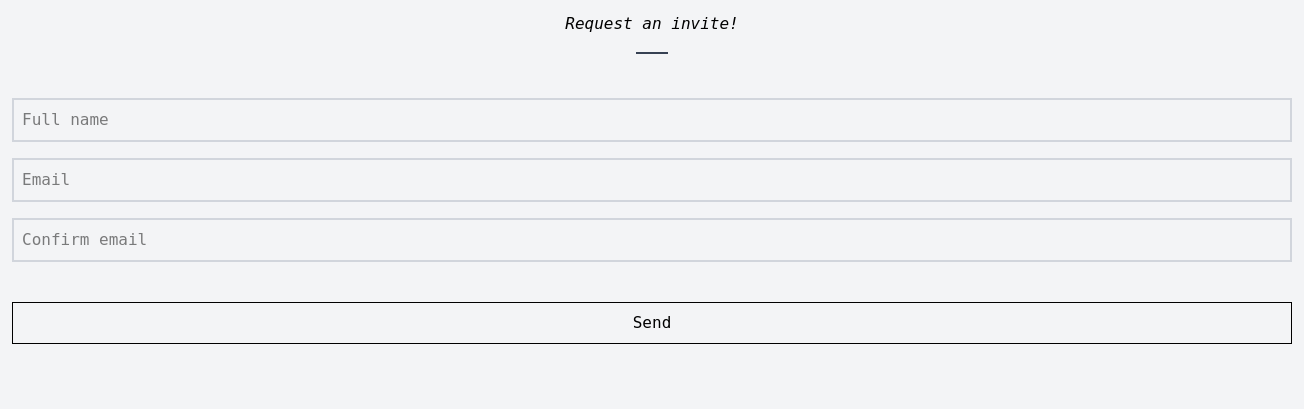
Test case: Form Component › Should show validation errors when fields are empty
Click the button "Send". click: x=652, y=323
box: [12,302,1292,344]
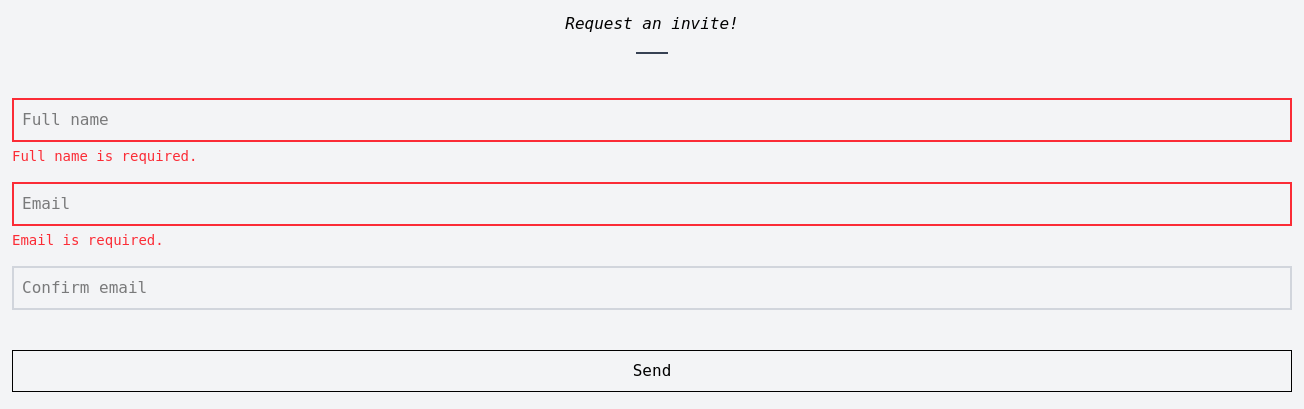
expect the text "Full name is required." is shown: met, box [12,148,197,164]
expect the text "Email is required." is shown: met, box [12,232,164,248]
